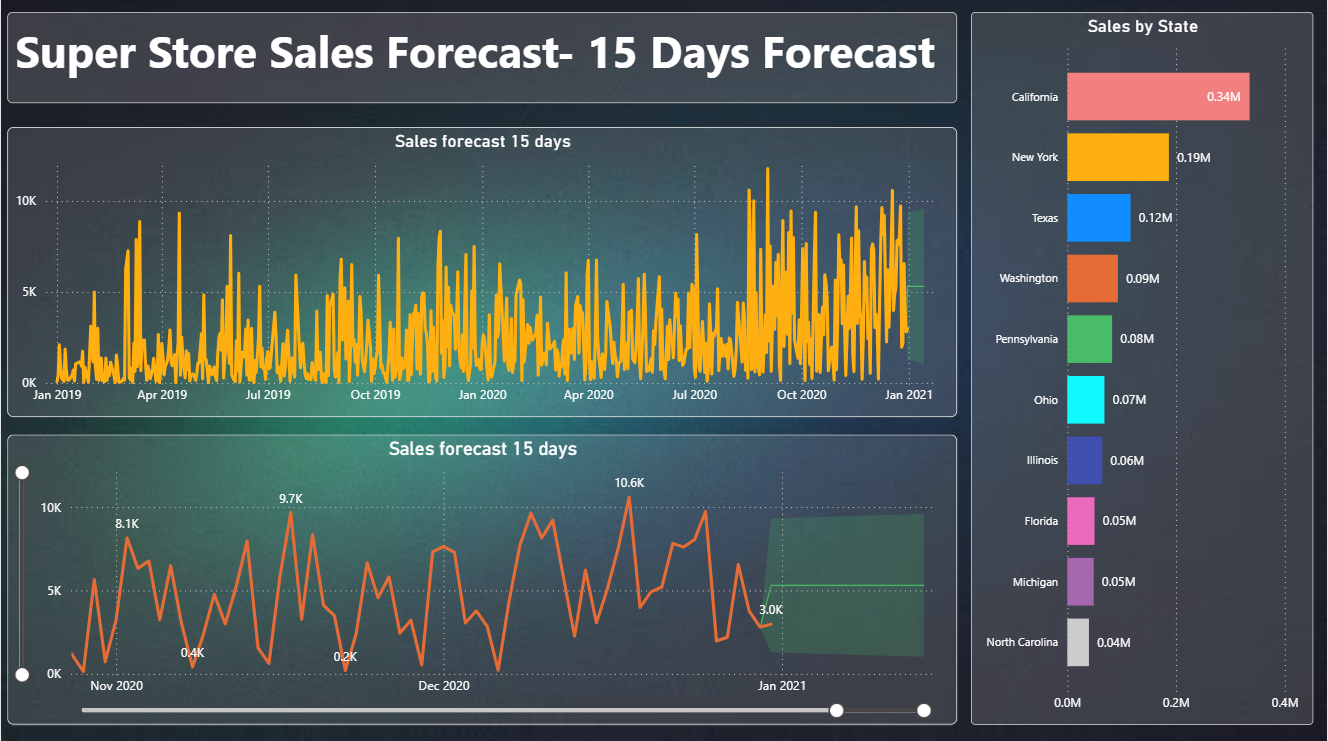

The dashboard page shown, as its layout file describes it:
{"tool":"powerbi","page":{"name":"Sales Forecast","canvas":[1280,720],"ordinal":1},"visuals":[{"type":"lineChart","title":"Sales forecast 15 days","fields":{"Y":["Sum(SuperStore_Sales_Dataset.Sales)"],"Category":["SuperStore_Sales_Dataset.Order Date"]},"box":[6.2,125.2,916.7,280],"z":0},{"type":"lineChart","title":"Sales forecast 15 days","fields":{"Y":["Sum(SuperStore_Sales_Dataset.Sales)"],"Category":["SuperStore_Sales_Dataset.Order Date"]},"box":[6.2,422.4,916.7,280],"z":1000},{"type":"clusteredBarChart","title":"Sales by State","fields":{"Y":["Sum(SuperStore_Sales_Dataset.Sales)"],"Category":["SuperStore_Sales_Dataset.State"]},"box":[936.2,14.5,330.6,687.7],"z":2000},{"type":"textbox","box":[6.2,14.3,916.7,88.1],"z":3000}]}

Visuals, with their boxes in screenshot pixels (x1, y1, x2, y2), scaled from the page's 1280x720 canvas onto the 1328x741 screenshot:
"Sales forecast 15 days" lineChart: [x1=6, y1=129, x2=958, y2=417]
"Sales forecast 15 days" lineChart: [x1=6, y1=435, x2=958, y2=723]
"Sales by State" clusteredBarChart: [x1=971, y1=15, x2=1314, y2=723]
textbox: [x1=6, y1=15, x2=958, y2=105]
